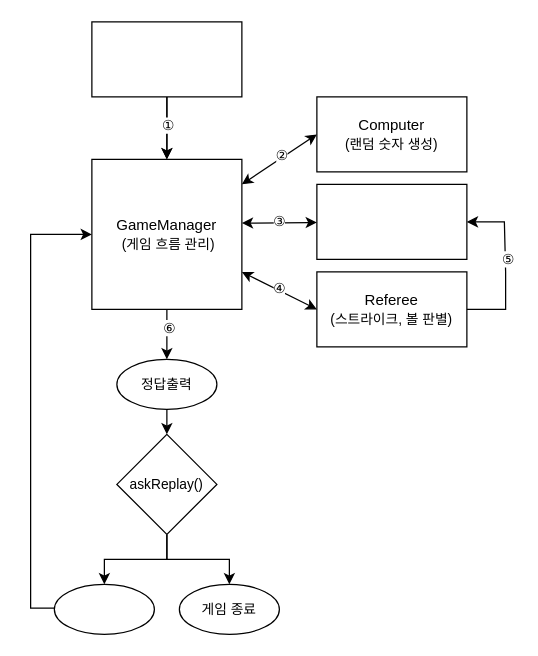
The diagram is 538 pixels wide and 656 high, and some of its shapes have lost their labels. The centre of each missing label's shape, as x and y in pixels:
Main (게임 시작): (166,59)
Player (사용자 입력,예외처리): (391,221)
재시작: (103,608)
